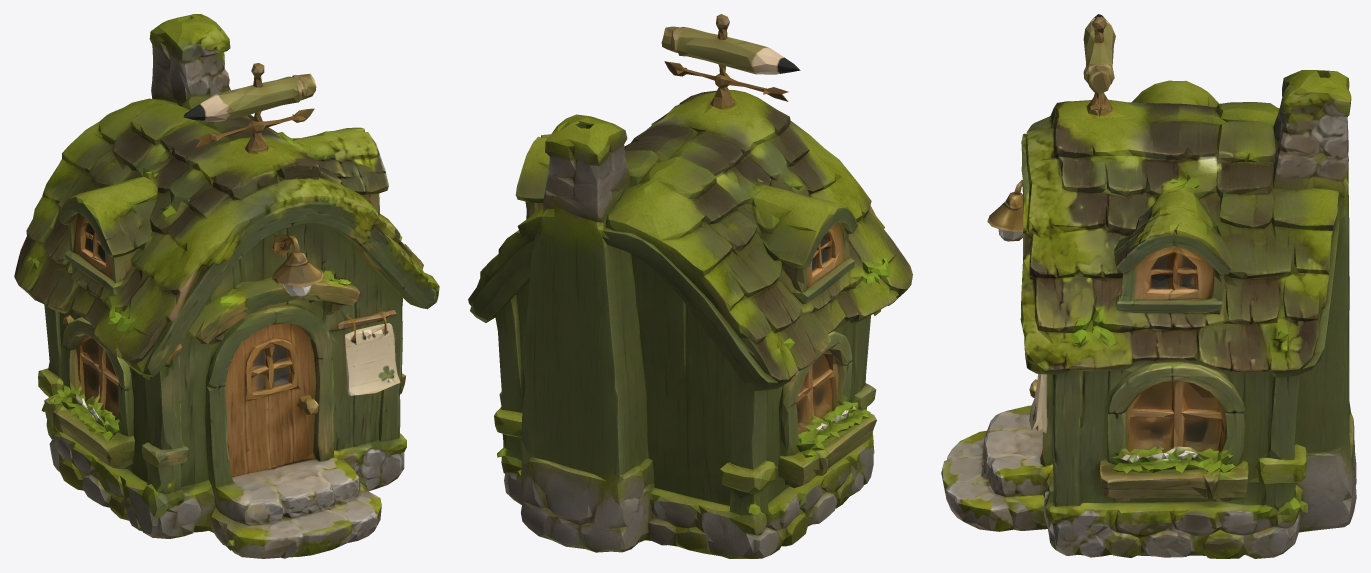
3 views of the same model, side by side, from view 1: azimuth 30°, elevation 25°; view 2: azimuth 150°, elevation 25°; view 3: azimuth 270°, elevation 25° (orthographic). The views are drawn at different scales.
Parts seen in each view (by area): view 1: Mesh; view 2: Mesh; view 3: Mesh.
Boxes of the visible parts, x1,y1,x2,y2 form: Mesh: (14,14,439,558); Mesh: (468,14,912,558); Mesh: (941,14,1356,558).
Bounding box in the file's own units: 1.41 × 1.9 × 1.49.
Materials: 1 (1 with a texture image).
